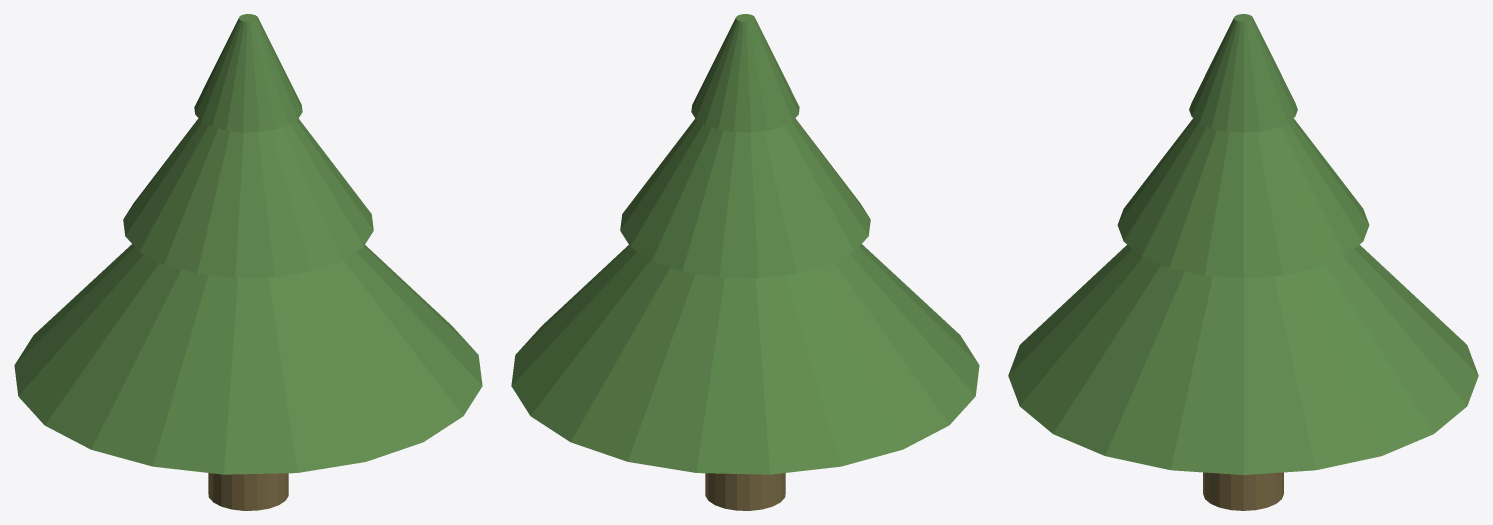
The model's file is pinetree.fbx.
The picture shows the model from 3 angles, left to right: view 1: azimuth 30°, elevation 25°; view 2: azimuth 150°, elevation 25°; view 3: azimuth 270°, elevation 25°; orthographic projection.
Visible parts, largest first — view 1: Cone; view 2: Cone; view 3: Cone.
Boxes of the visible parts, x1,y1,x2,y2 form: Cone: [14, 14, 482, 510]; Cone: [511, 14, 979, 510]; Cone: [1008, 14, 1478, 510].
Size of the model in its own units: 864 by 964 by 864.
